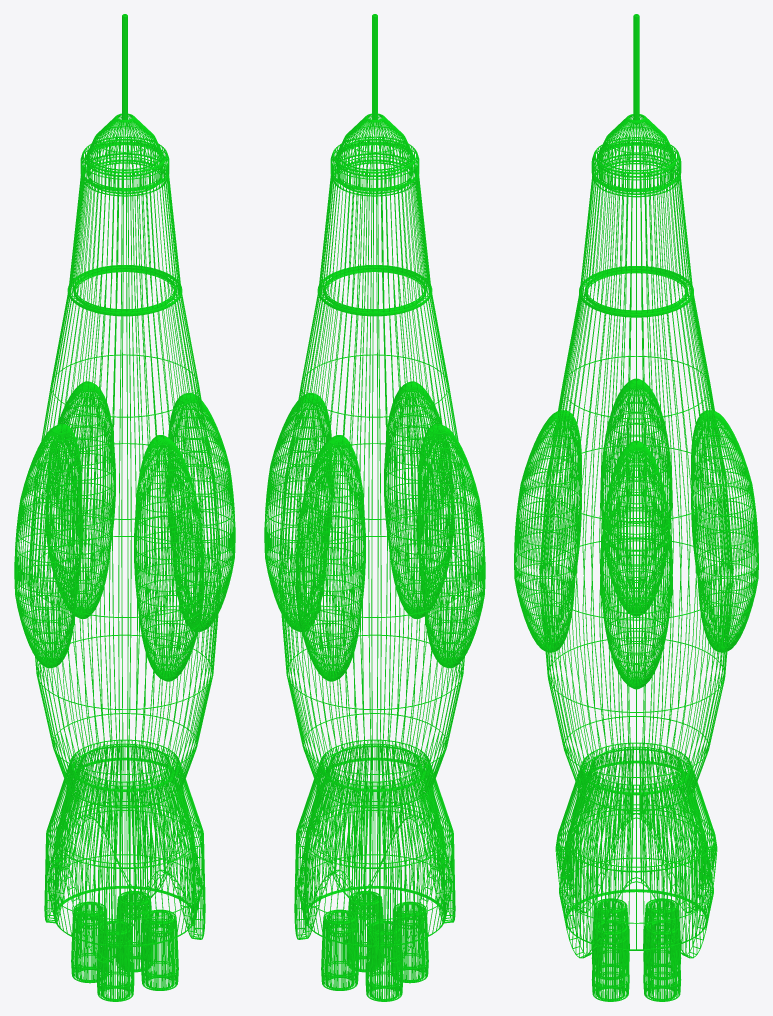
The model's file is anti-virus-missile-wireframe.glb.
The picture shows the model from 3 angles, left to right: view 1: azimuth 30°, elevation 25°; view 2: azimuth 150°, elevation 25°; view 3: azimuth 270°, elevation 25°; orthographic projection.
Visible parts, largest first — view 1: chassis technical wire, anti-viral-payload-pods technical wire, nose-navigation-assembly technical wire, four-main-rocket-thrusters technical wire; view 2: chassis technical wire, anti-viral-payload-pods technical wire, nose-navigation-assembly technical wire, four-main-rocket-thrusters technical wire; view 3: chassis technical wire, anti-viral-payload-pods technical wire, nose-navigation-assembly technical wire, four-main-rocket-thrusters technical wire.
Part boxes in pixels (x1,y1,x2,y2): chassis technical wire: [29, 272, 221, 963]; anti-viral-payload-pods technical wire: [14, 381, 235, 681]; nose-navigation-assembly technical wire: [67, 14, 182, 316]; four-main-rocket-thrusters technical wire: [71, 891, 178, 1001]; chassis technical wire: [278, 272, 470, 963]; anti-viral-payload-pods technical wire: [264, 381, 485, 681]; nose-navigation-assembly technical wire: [317, 14, 432, 316]; four-main-rocket-thrusters technical wire: [321, 891, 428, 1001]; chassis technical wire: [540, 272, 732, 958]; anti-viral-payload-pods technical wire: [514, 378, 758, 689]; nose-navigation-assembly technical wire: [579, 14, 693, 317]; four-main-rocket-thrusters technical wire: [591, 898, 681, 1001].
Size of the model in its own units: 1.39 by 6.07 by 1.39.
